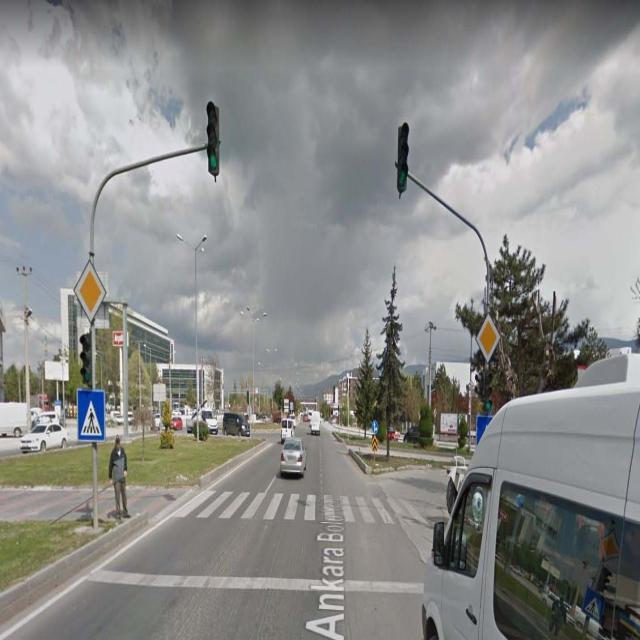ilerisag: (372, 421, 378, 434)
yesil: (207, 105, 220, 175), (398, 126, 407, 188), (82, 333, 92, 383), (484, 372, 491, 411)
